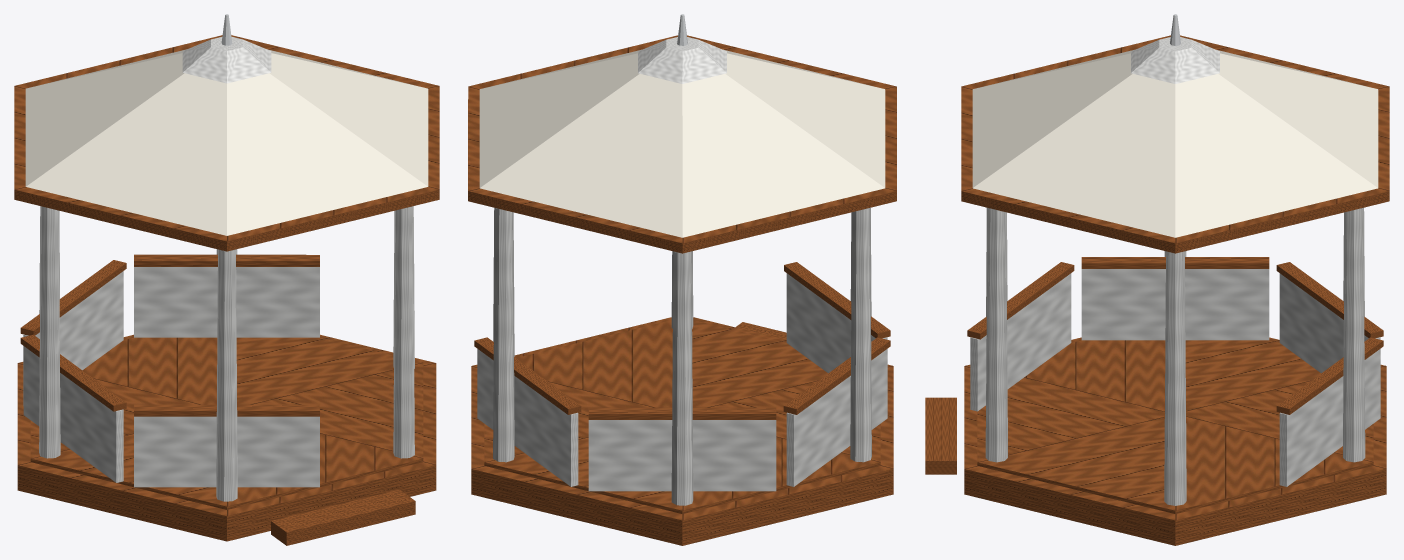
Rendered from cruise-ship-deck-and-lounge-cruise-ship-deck-and-loung-6816fa25__38458.glb.
3 renders of one model, left to right at view 1: azimuth 30°, elevation 25°; view 2: azimuth 150°, elevation 25°; view 3: azimuth 270°, elevation 25°, orthographic.
Visible parts, largest first — view 1: cruise-ship-deck-and-lounge-bandstand; view 2: cruise-ship-deck-and-lounge-bandstand; view 3: cruise-ship-deck-and-lounge-bandstand.
Boxes of the visible parts, x1,y1,x2,y2 form: cruise-ship-deck-and-lounge-bandstand: (14, 14, 439, 545); cruise-ship-deck-and-lounge-bandstand: (468, 14, 896, 545); cruise-ship-deck-and-lounge-bandstand: (925, 14, 1389, 545).
Bounding box in the file's own units: 5.28 × 5.04 × 4.96.
Materials: 4 (2 with a texture image).
